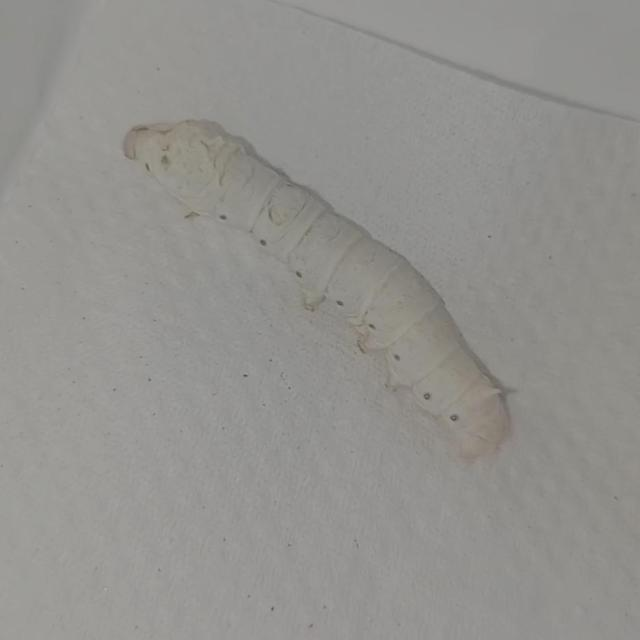Healthy: (104, 97, 512, 484)
